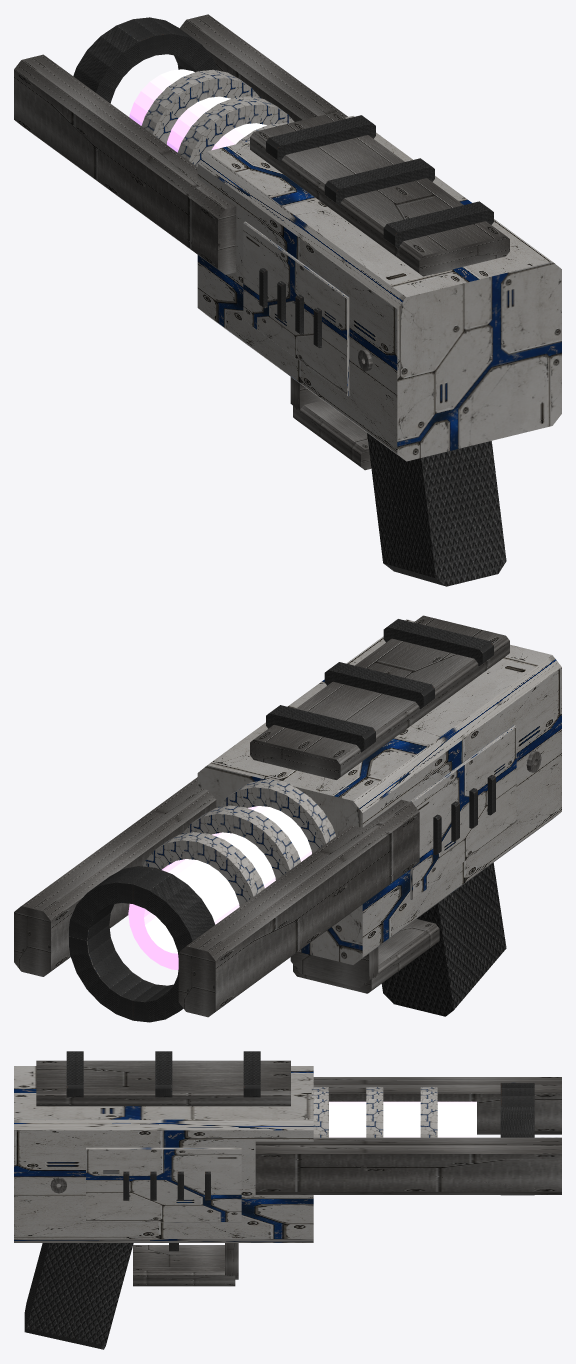
Rendered from laser.gltf.
3 views of the same model, one above another, from view 1: azimuth 30°, elevation 25°; view 2: azimuth 150°, elevation 25°; view 3: azimuth 270°, elevation 25° (orthographic). The views are drawn at different scales.
Visible parts, largest first — view 1: Receiver, EmitterRail (×2), Grip, TopRail, InsetPanel, RailNotch (×3), Inductor (×2), Lens, ChargeCore, TriggerGuard; view 2: Receiver, EmitterRail (×2), TopRail, Lens, Inductor (×3), Grip, InsetPanel, RailNotch (×3), ChargeCore, TriggerGuard, GuardFront; view 3: Receiver, EmitterRail (×2), InsetPanel, TopRail, Grip, ChargeCore, TriggerGuard, Inductor (×3), RailNotch (×3), Lens, GuardFront.
Part boxes in pixels (bbox=[...]): Receiver: bbox=[197, 116, 561, 461]; EmitterRail (×2): bbox=[14, 14, 347, 274]; Grip: bbox=[367, 433, 506, 586]; TopRail: bbox=[250, 112, 509, 276]; InsetPanel: bbox=[243, 221, 349, 396]; RailNotch (×3): bbox=[266, 115, 493, 248]; Inductor (×2): bbox=[141, 69, 294, 166]; Lens: bbox=[73, 17, 218, 103]; ChargeCore: bbox=[129, 69, 266, 152]; TriggerGuard: bbox=[293, 400, 371, 470]; Receiver: bbox=[197, 619, 561, 964]; EmitterRail (×2): bbox=[14, 777, 419, 1017]; TopRail: bbox=[250, 615, 509, 779]; Lens: bbox=[69, 866, 215, 1022]; Inductor (×3): bbox=[143, 779, 335, 906]; Grip: bbox=[381, 862, 506, 1016]; InsetPanel: bbox=[410, 725, 516, 899]; RailNotch (×3): bbox=[266, 619, 493, 752]; ChargeCore: bbox=[128, 806, 311, 970]; TriggerGuard: bbox=[293, 919, 439, 993]; GuardFront: bbox=[290, 947, 378, 987]; Receiver: bbox=[14, 1066, 313, 1242]; EmitterRail (×2): bbox=[255, 1077, 561, 1194]; InsetPanel: bbox=[86, 1147, 241, 1222]; TopRail: bbox=[36, 1060, 290, 1106]; Grip: bbox=[24, 1243, 133, 1349]; ChargeCore: bbox=[329, 1101, 476, 1137]; TriggerGuard: bbox=[133, 1245, 235, 1286]; Inductor (×3): bbox=[311, 1087, 437, 1137]; RailNotch (×3): bbox=[66, 1051, 260, 1097]; Lens: bbox=[500, 1082, 534, 1195]; GuardFront: bbox=[225, 1243, 238, 1279].
Size of the model in its own units: 0.1927 by 0.3308 by 0.6037.
5 materials, 4 textured.
